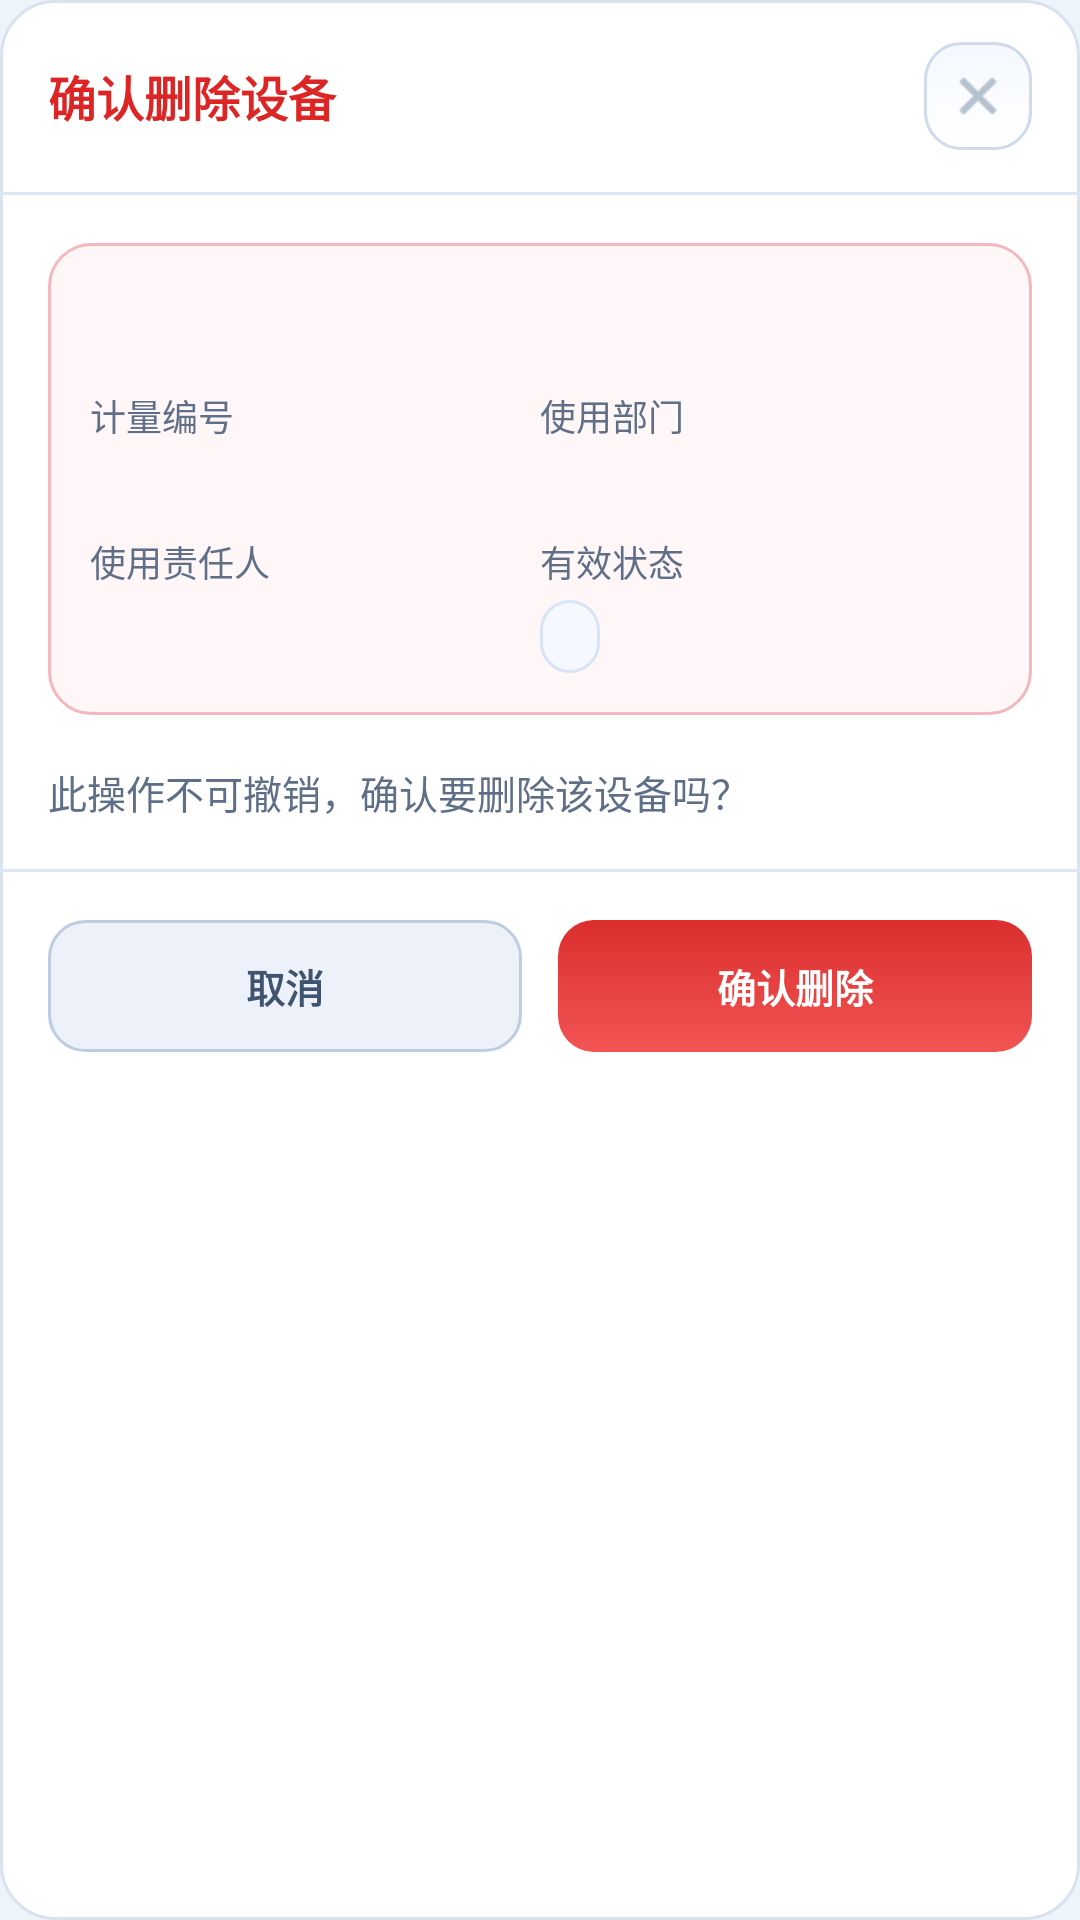

Where icons sit on this 1080×1920 app screen, as Rect(x1, y1, x2, y2):
close clear cancel: Rect(924, 42, 1032, 150)
